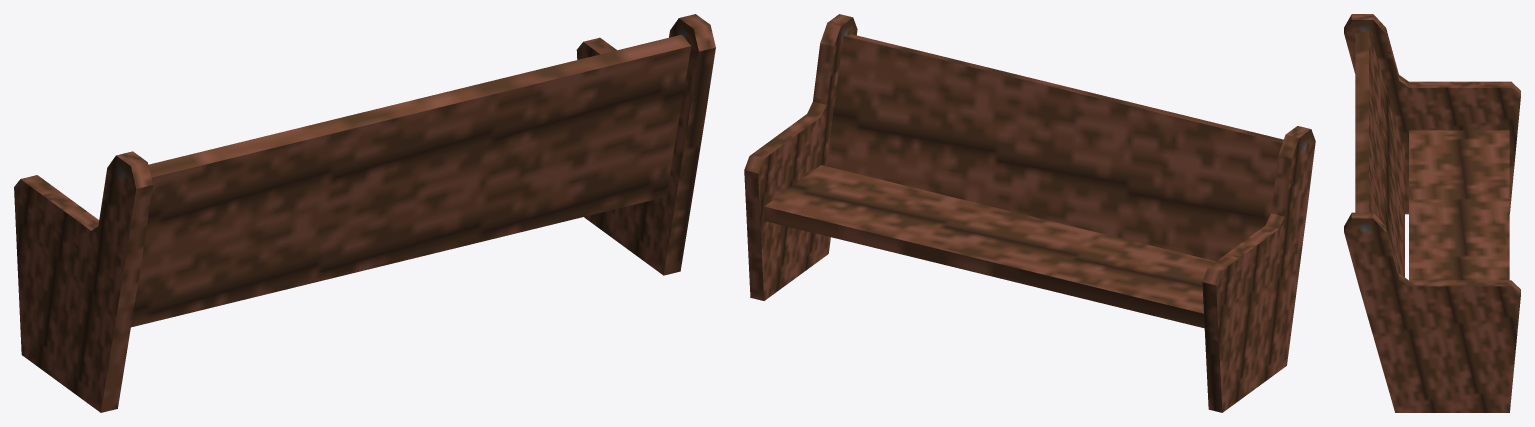
Rendered from homer_fat.fbx.
3 renders of one model, left to right at view 1: azimuth 30°, elevation 25°; view 2: azimuth 150°, elevation 25°; view 3: azimuth 270°, elevation 25°, orthographic. The views are drawn at different scales.
Parts seen in each view (by area): view 1: Cube.002; view 2: Cube.002; view 3: Cube.002.
Boxes of the visible parts, left/top/right/bottom form: Cube.002: left=14, top=14, right=715, bottom=412; Cube.002: left=744, top=14, right=1315, bottom=412; Cube.002: left=1344, top=14, right=1520, bottom=412.
Bounding box in the file's own units: 693 × 307 × 253.
Materials: 1 (1 with a texture image).
